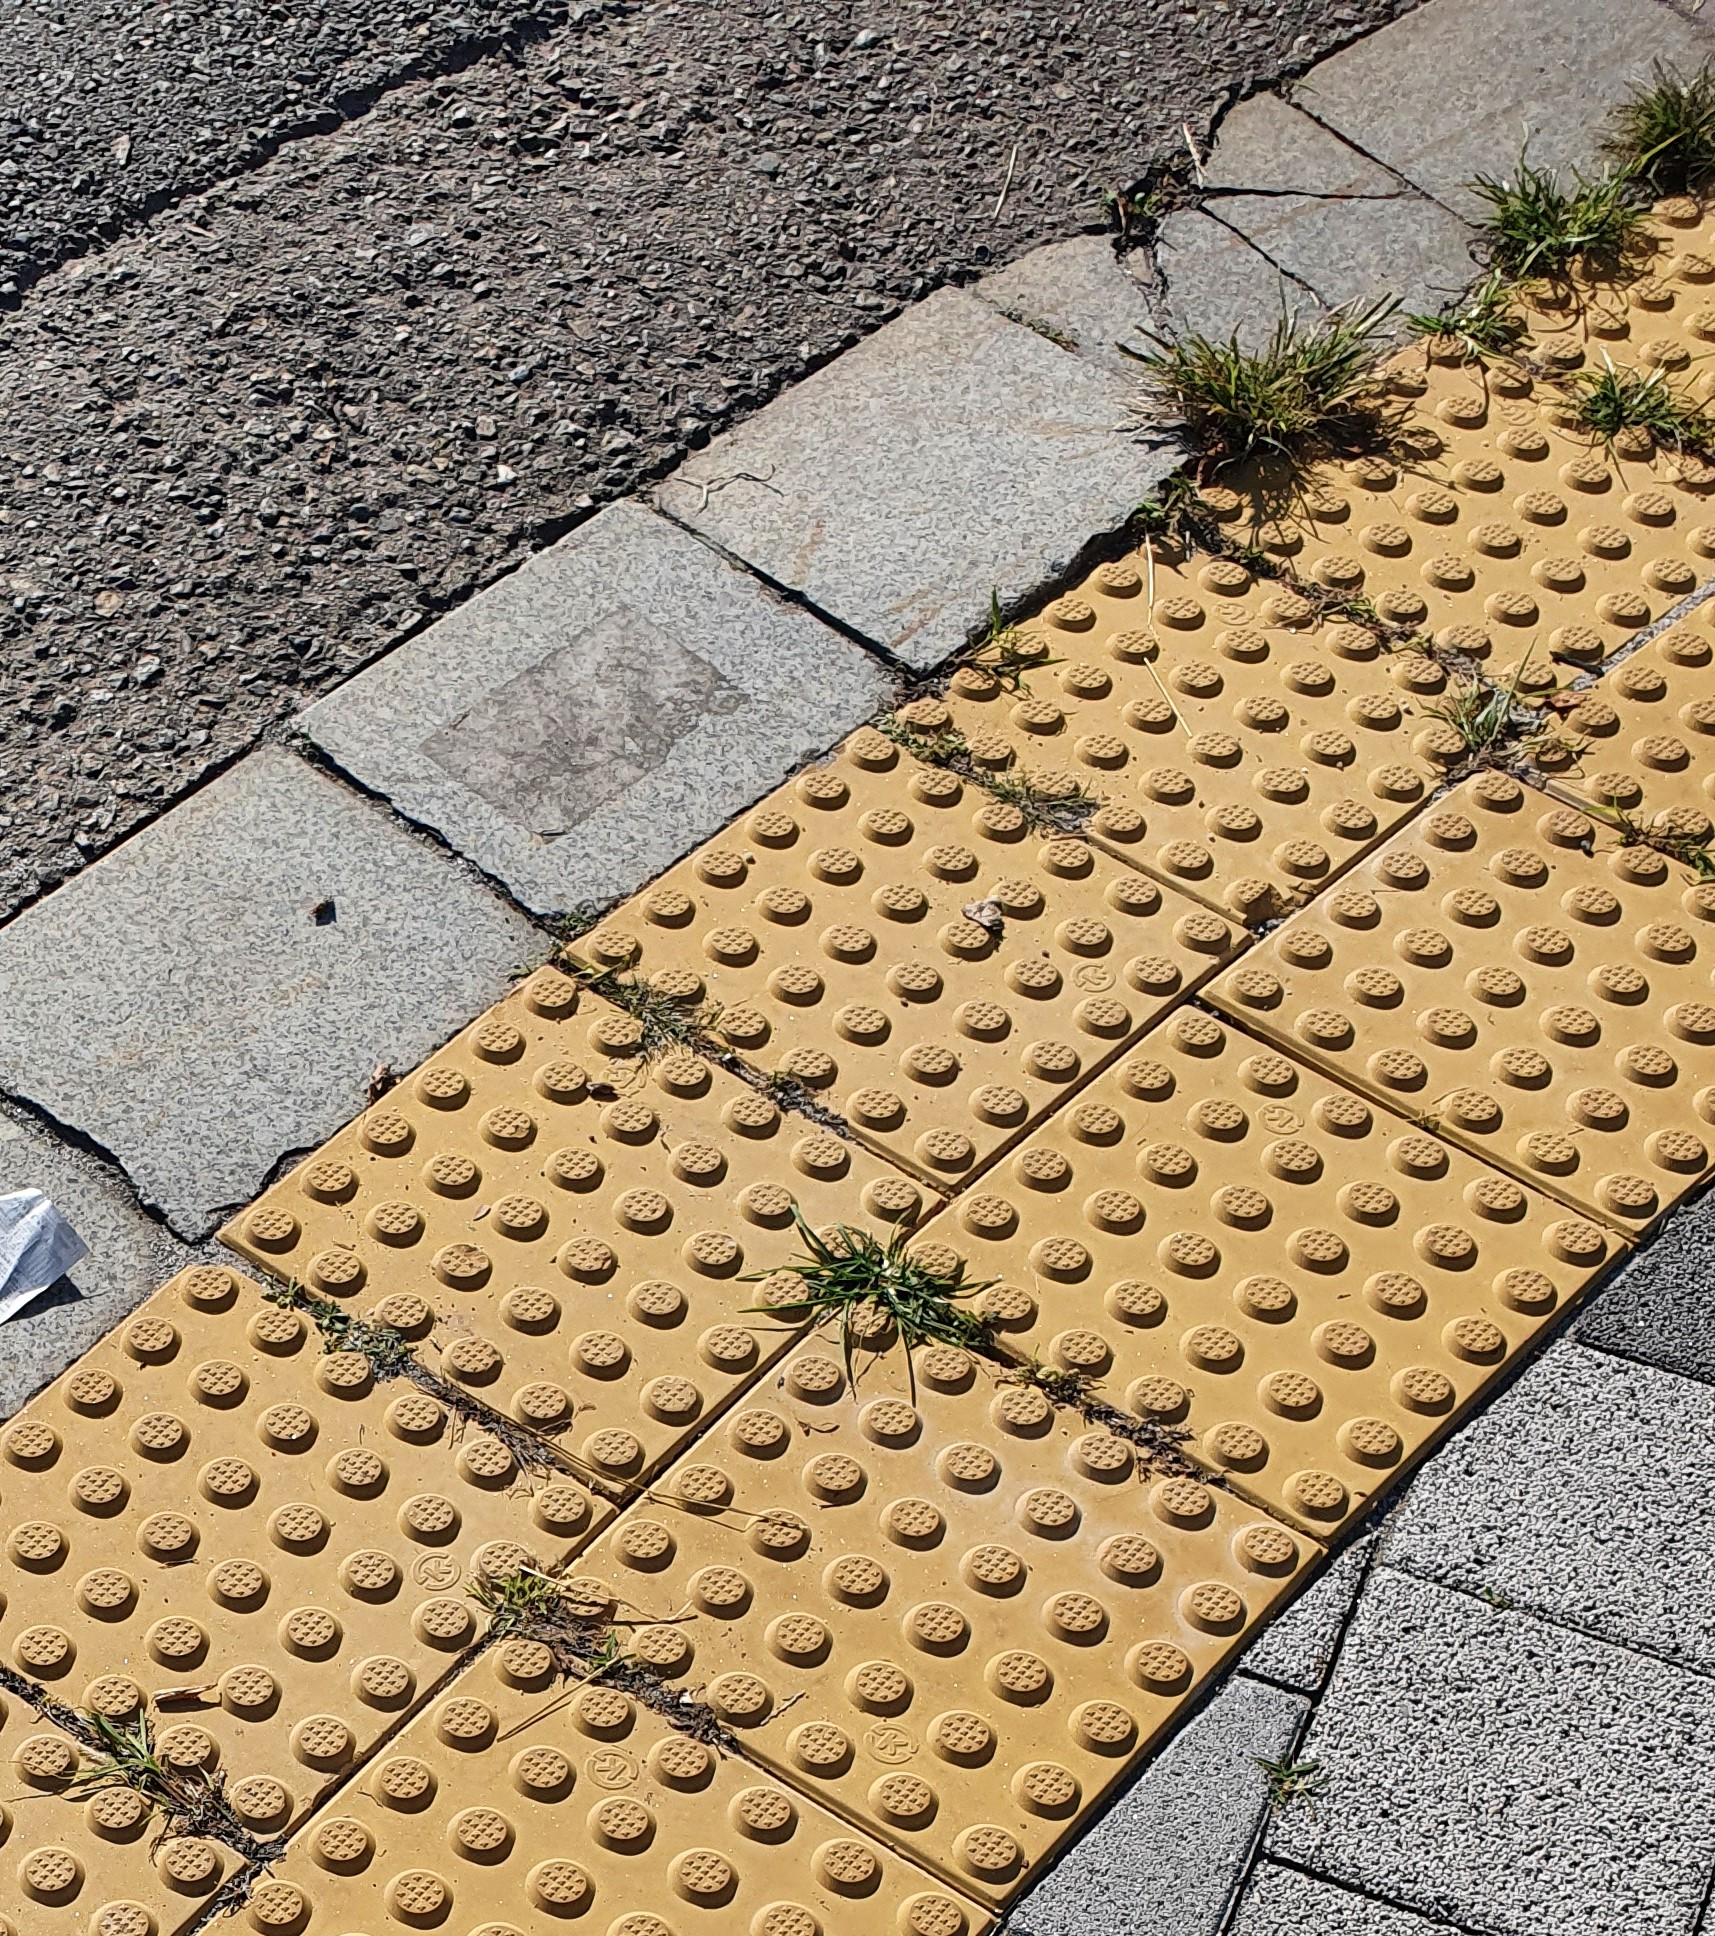warningBlock: (119, 1301, 515, 1782), (763, 731, 1207, 1140), (1045, 965, 1458, 1400), (704, 1413, 1151, 1804), (998, 558, 1447, 885), (1326, 804, 1715, 1168), (416, 1067, 836, 1378), (391, 1689, 902, 1936), (1324, 367, 1712, 667)
